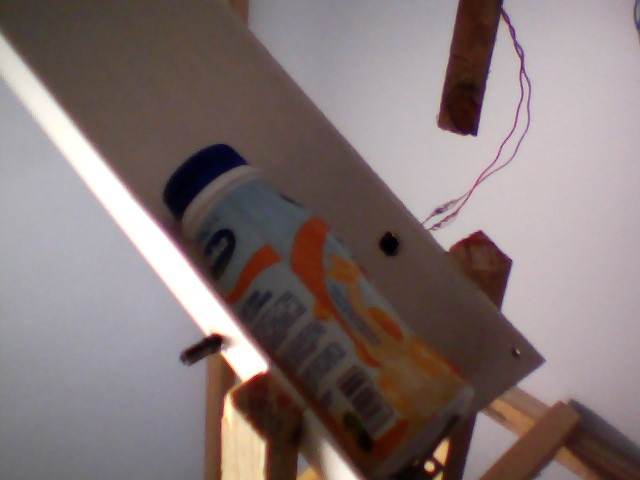plastico: (158, 141, 478, 478)
